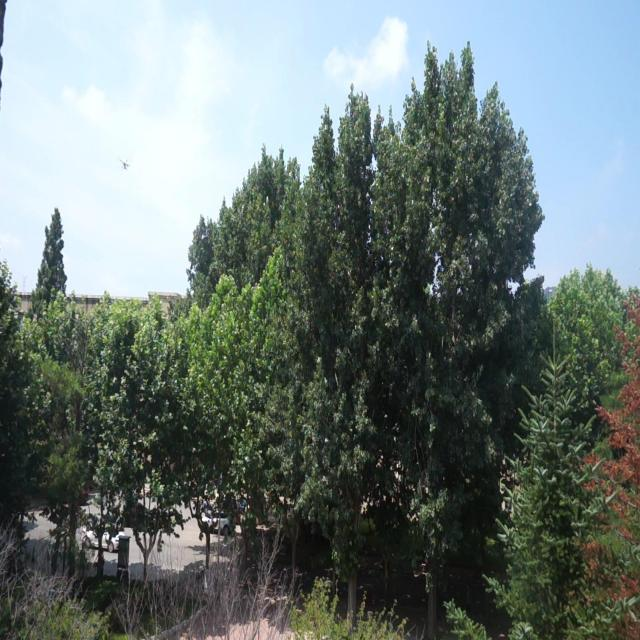UAV: (120, 159, 130, 170)
